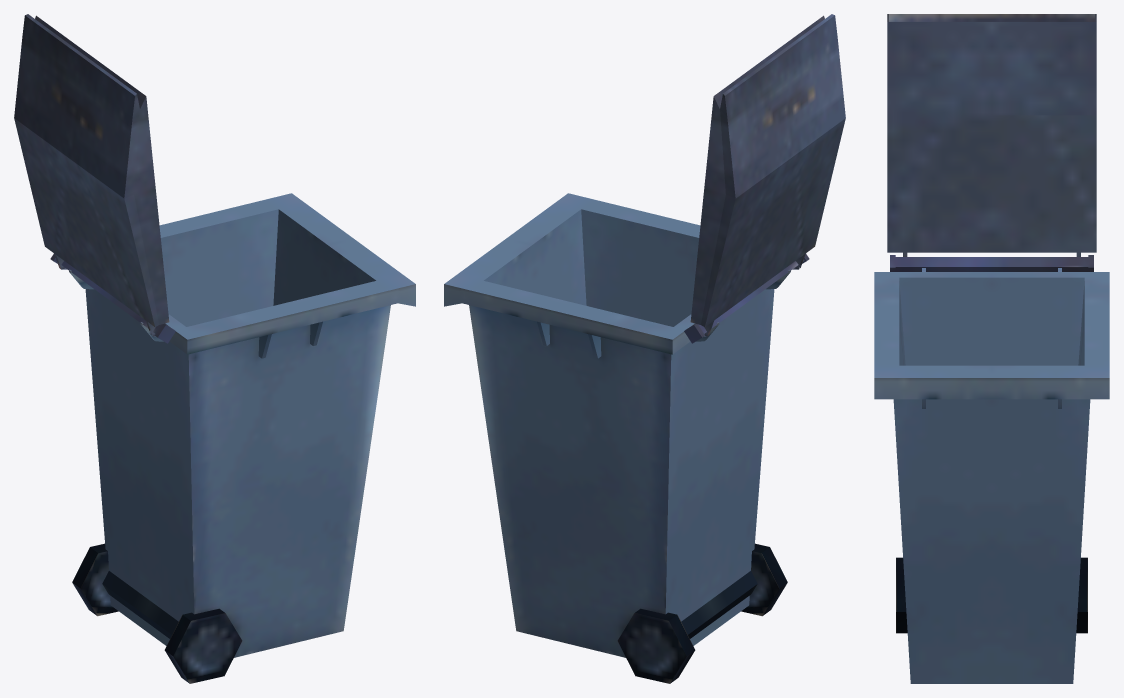
File: Urban_TrashCanAlt1Open_Model.fbx
3 renders of one model, left to right at view 1: azimuth 30°, elevation 25°; view 2: azimuth 150°, elevation 25°; view 3: azimuth 270°, elevation 25°, orthographic. The views are drawn at different scales.
Parts seen in each view (by area): view 1: Urban_TrashCanAlt1Open_Mesh; view 2: Urban_TrashCanAlt1Open_Mesh; view 3: Urban_TrashCanAlt1Open_Mesh.
Boxes of the visible parts, <box> form: Urban_TrashCanAlt1Open_Mesh: <box>14,14,415,683</box>; Urban_TrashCanAlt1Open_Mesh: <box>444,14,845,683</box>; Urban_TrashCanAlt1Open_Mesh: <box>874,14,1109,683</box>.
Bounding box in the file's own units: 1.03 × 2.1 × 0.7794.
